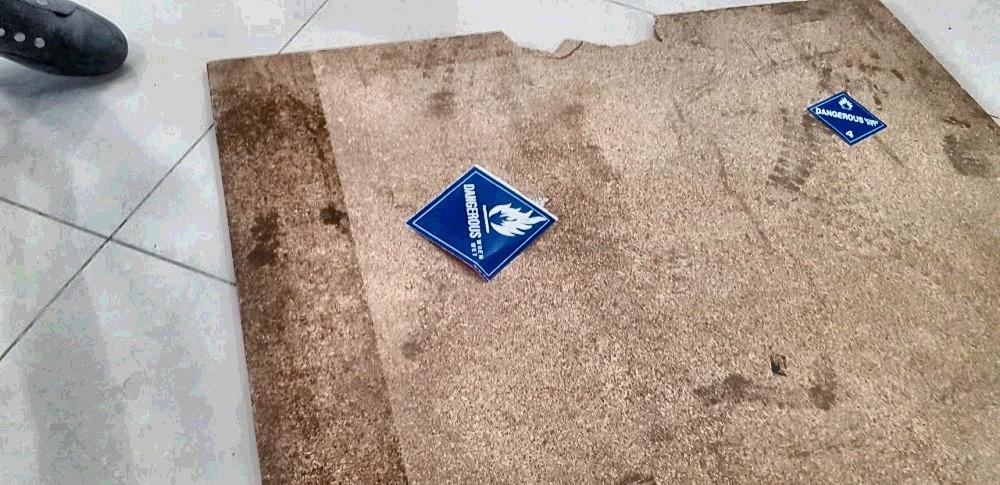dangerous-when-wet: (405, 162, 559, 279), (805, 81, 888, 152)
